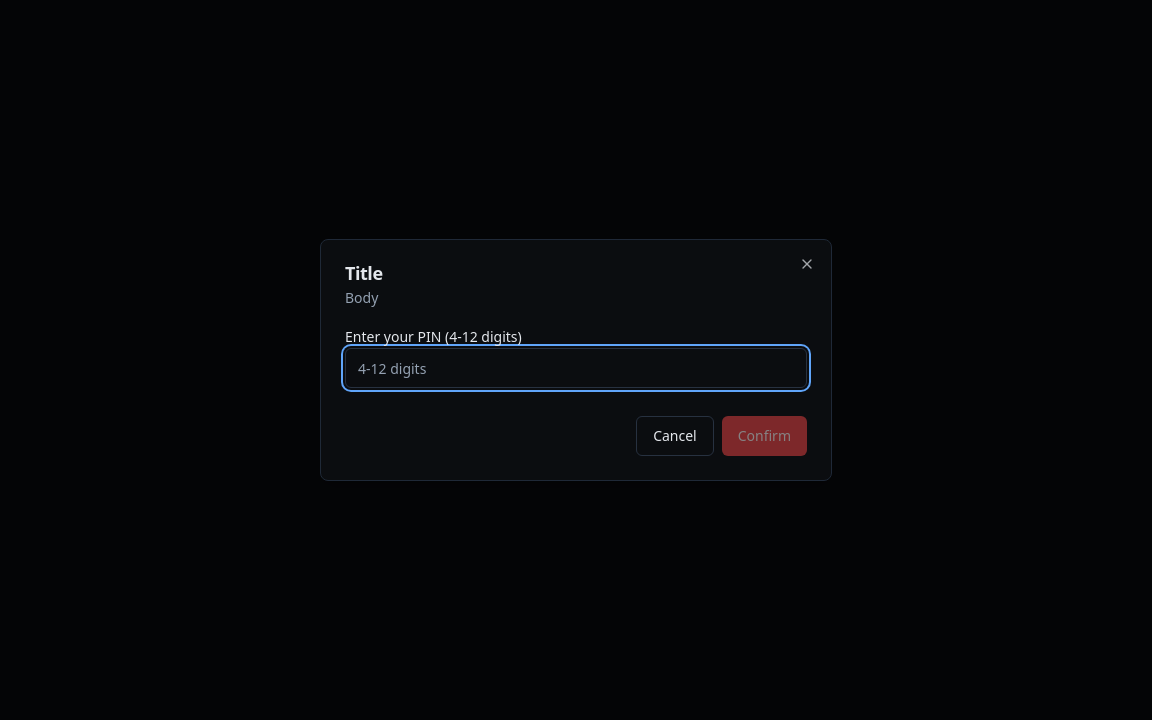
ConfirmPinDialog › strips non-digit characters from input
This screenshot has width=1152, height=720.
Type "abc123" into the password field labelled "PIN".
click(576, 368); type("abc123")  # box [345, 348, 807, 388]
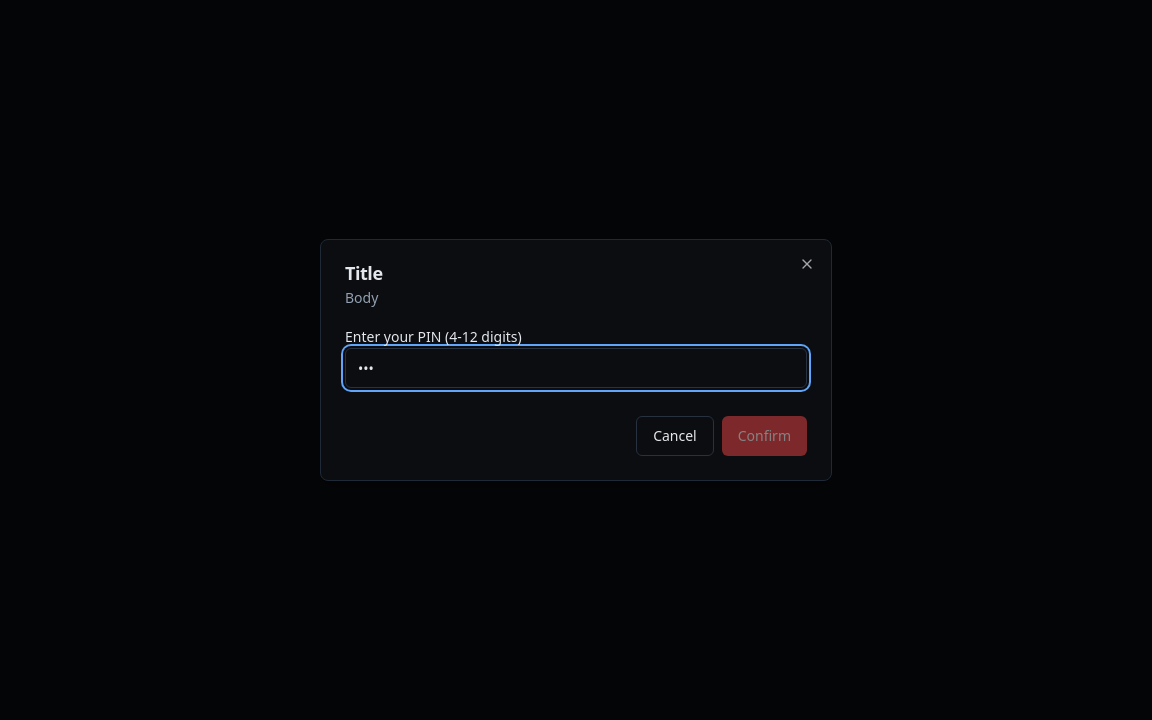
Now the password field labelled "PIN" holds "123", box [345, 348, 807, 388]
